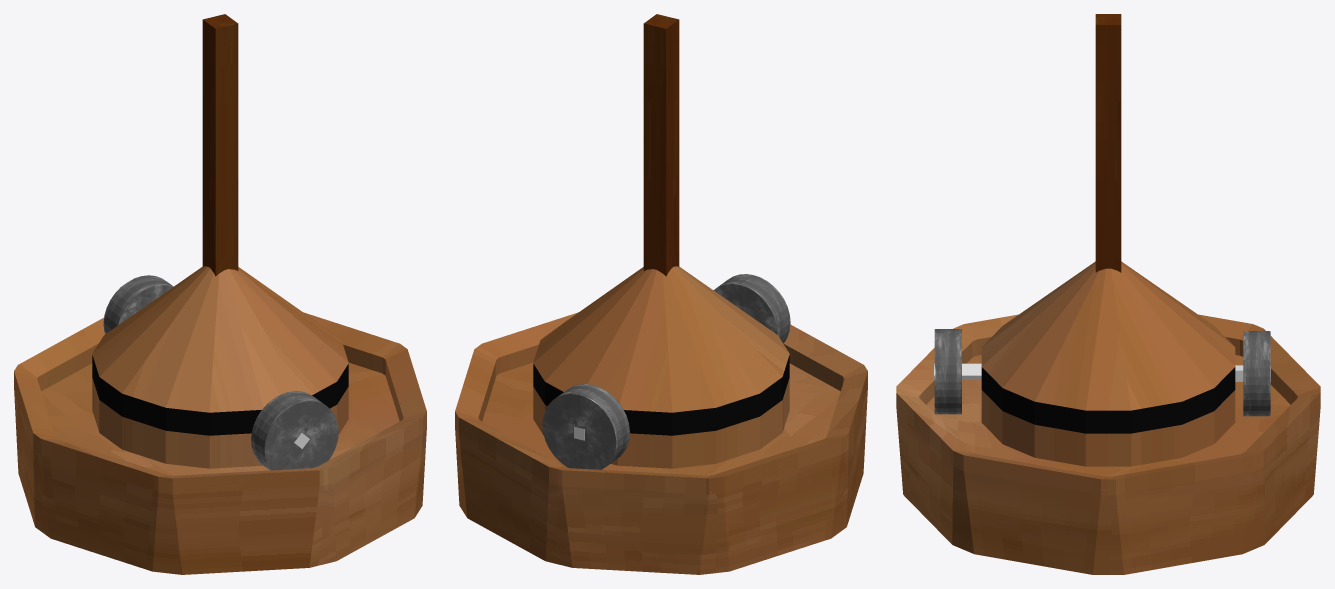
File: RiceMill.glb
3 views of the same model, side by side, from view 1: azimuth 30°, elevation 25°; view 2: azimuth 150°, elevation 25°; view 3: azimuth 270°, elevation 25° (orthographic).
Parts seen in each view (by area): view 1: Cube, Cube.001, Cylinder, Cube.002; view 2: Cube, Cube.001, Cube.002, Cylinder; view 3: Cube, Cube.001, Cylinder, Cube.002.
Boxes of the visible parts, x1,y1,x2,y2 form: Cube: [14, 266, 426, 574]; Cube.001: [202, 14, 238, 276]; Cylinder: [251, 391, 338, 470]; Cube.002: [103, 275, 173, 334]; Cube: [455, 266, 867, 574]; Cube.001: [643, 14, 679, 276]; Cube.002: [542, 384, 629, 469]; Cylinder: [713, 274, 790, 343]; Cube: [896, 261, 1320, 574]; Cube.001: [1095, 14, 1121, 272]; Cylinder: [934, 329, 981, 414]; Cube.002: [1235, 331, 1270, 416].
Bounding box in the file's own units: 2.48 × 3.02 × 2.48.
4 materials, 3 textured.
